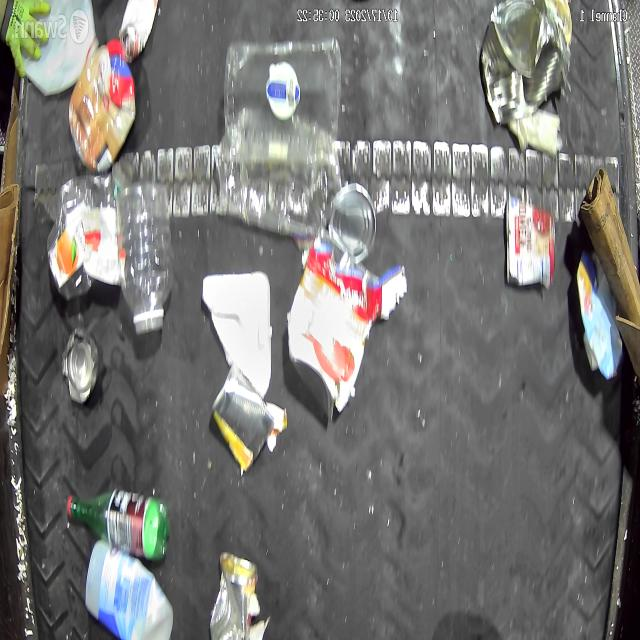can: (212, 360, 273, 472), (505, 195, 556, 288), (208, 556, 258, 640), (328, 183, 375, 266), (61, 329, 100, 405), (119, 0, 158, 64)
milk_jug: (10, 0, 99, 100)
non_white_jug: (86, 537, 175, 640)
plastic_bottle: (115, 181, 171, 337)
